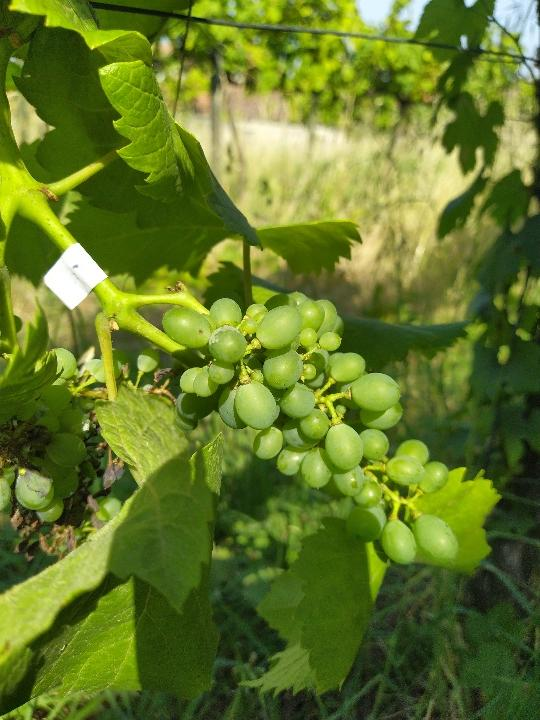grape: (135, 286, 465, 571)
